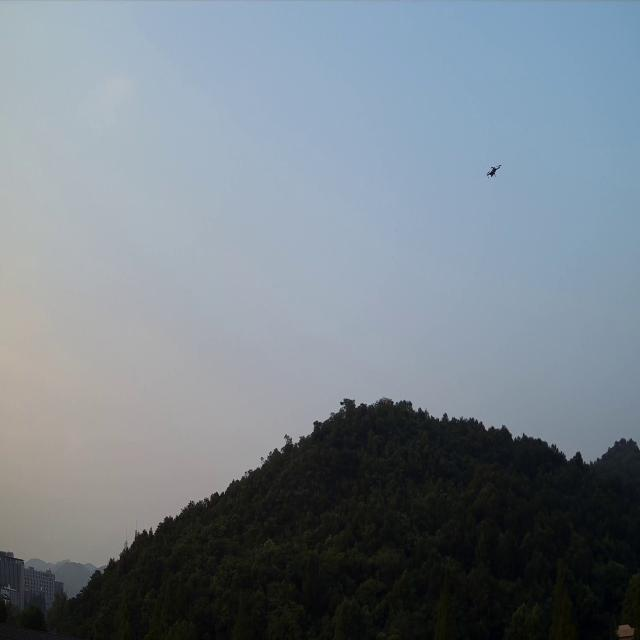UAV: (486, 164, 503, 178)
